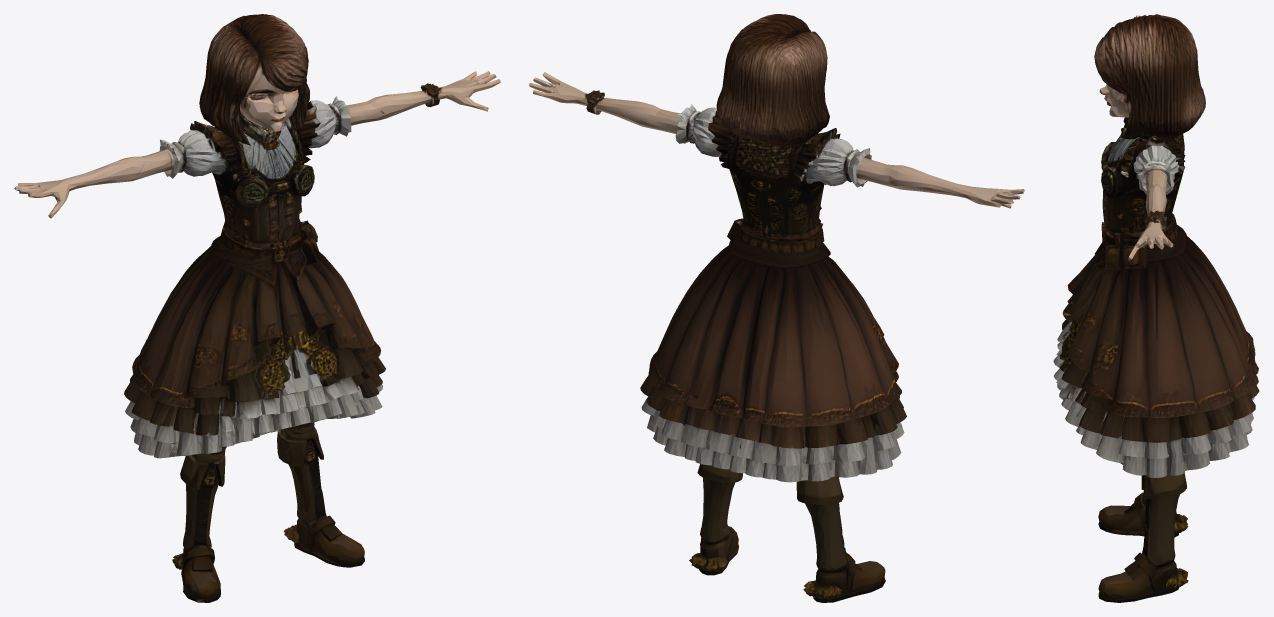
Rendered from base_basic_pbr.fbx.
3 renders of one model, left to right at view 1: azimuth 30°, elevation 25°; view 2: azimuth 150°, elevation 25°; view 3: azimuth 270°, elevation 25°, orthographic. The views are drawn at different scales.
Parts seen in each view (by area): view 1: model; view 2: model; view 3: model.
Boxes of the visible parts, left/top/right/bottom form: model: left=14, top=14, right=500, bottom=602; model: left=529, top=14, right=1024, bottom=602; model: left=1053, top=14, right=1259, bottom=602.
Size of the model in its own units: 163 by 178 by 61.37.
Materials: 1 (1 with a texture image).
